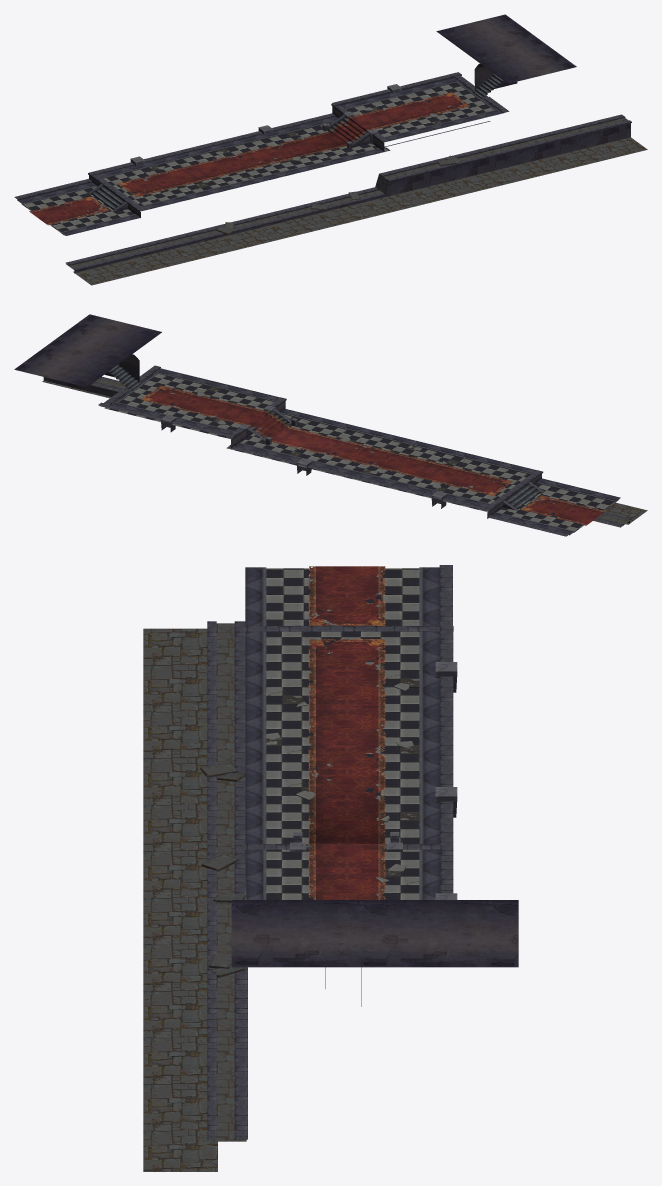
The model's file is terrain_section02_guanka08.FBX.
The picture shows the model from 3 angles, top to bottom: view 1: azimuth 30°, elevation 25°; view 2: azimuth 150°, elevation 25°; view 3: azimuth 270°, elevation 25°; orthographic projection. The views are drawn at different scales.
Visible parts, largest first — view 1: terrain_section02_guanka08; view 2: terrain_section02_guanka08; view 3: terrain_section02_guanka08.
Boxes of the visible parts, <box> form: terrain_section02_guanka08: <box>14,14,647,285</box>; terrain_section02_guanka08: <box>14,314,647,536</box>; terrain_section02_guanka08: <box>143,565,518,1171</box>.
Size of the model in its own units: 122 by 16.49 by 35.53.
